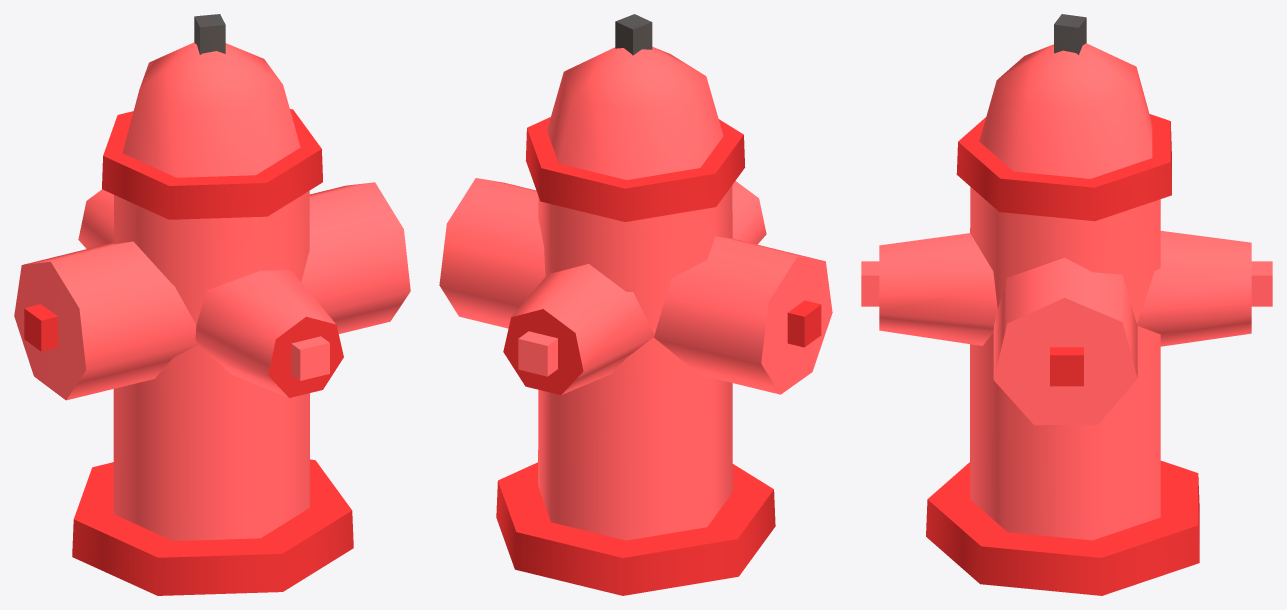
The model's file is city2-hydrant-01.glb.
3 views of the same model, side by side, from view 1: azimuth 30°, elevation 25°; view 2: azimuth 150°, elevation 25°; view 3: azimuth 270°, elevation 25° (orthographic).
Visible parts, largest first — view 1: Hydrant_01; view 2: Hydrant_01; view 3: Hydrant_01.
Boxes of the visible parts, x1,y1,x2,y2 form: Hydrant_01: (14,14,410,595); Hydrant_01: (439,14,832,595); Hydrant_01: (861,14,1272,595).
Bounding box in the file's own units: 0.6325 × 0.875 × 0.6326.
1 material, 1 textured.
